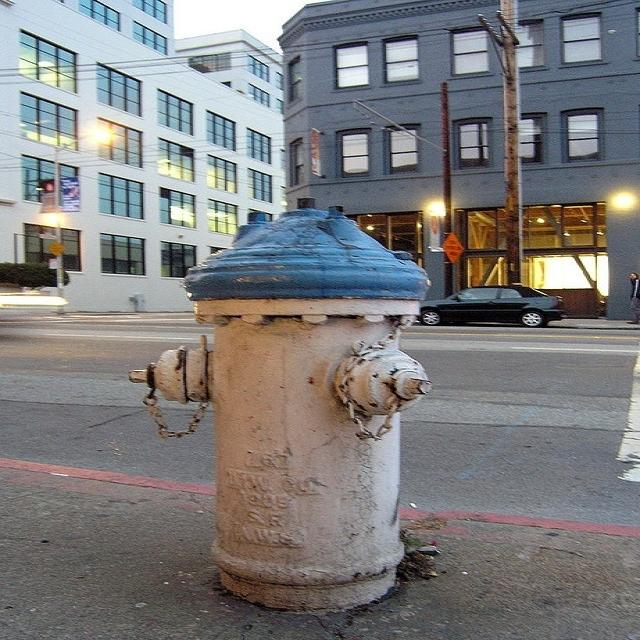fire_hydrant: (159, 208, 460, 582)
